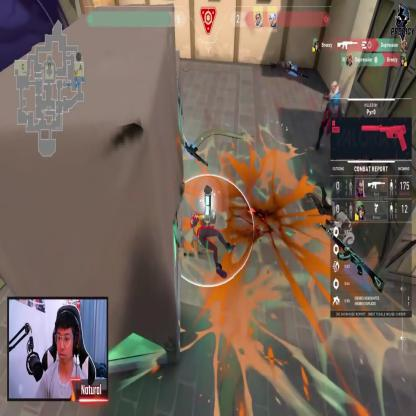enemy: (315, 79, 342, 163)
enemy_head: (331, 81, 337, 93)
